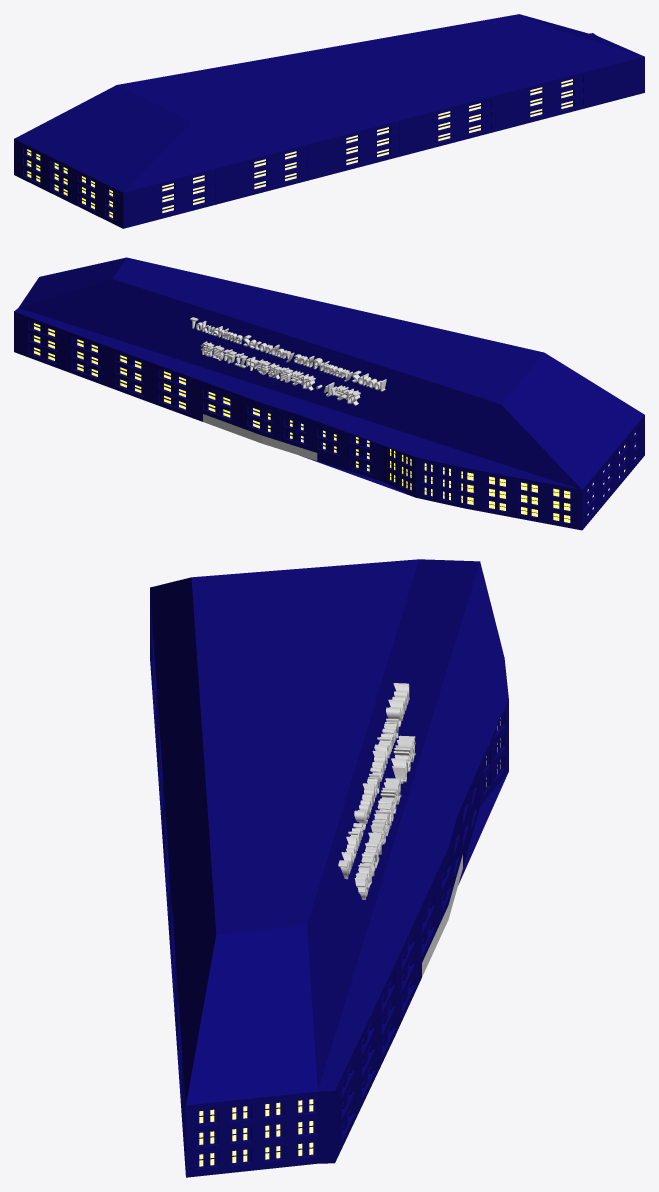
File: tokushima_secondary_&_primary_school.fbx
3 renders of one model, top to bottom at view 1: azimuth 30°, elevation 25°; view 2: azimuth 150°, elevation 25°; view 3: azimuth 270°, elevation 25°, orthographic. The views are drawn at different scales.
Parts seen in each view (by area): view 1: tokushima_secondary_and_primary_school; view 2: tokushima_secondary_and_primary_school; view 3: tokushima_secondary_and_primary_school.
Boxes of the visible parts, x1,y1,x2,y2 form: tokushima_secondary_and_primary_school: [14, 14, 644, 228]; tokushima_secondary_and_primary_school: [14, 257, 644, 530]; tokushima_secondary_and_primary_school: [150, 559, 508, 1177].
Bounding box in the file's own units: 808 × 111 × 225.
